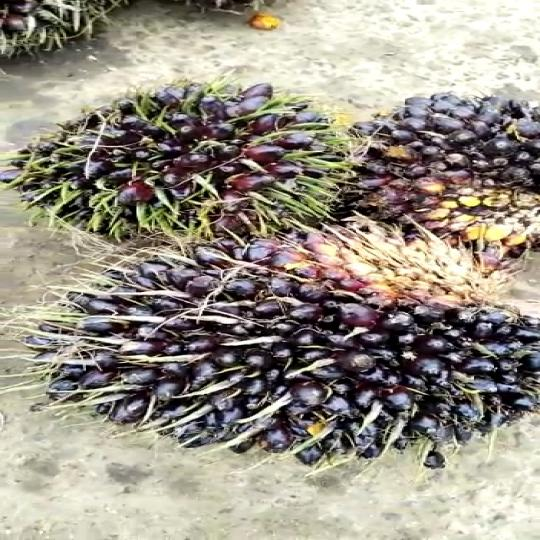mentah: (15, 227, 540, 476), (1, 70, 375, 253), (326, 90, 540, 282)
